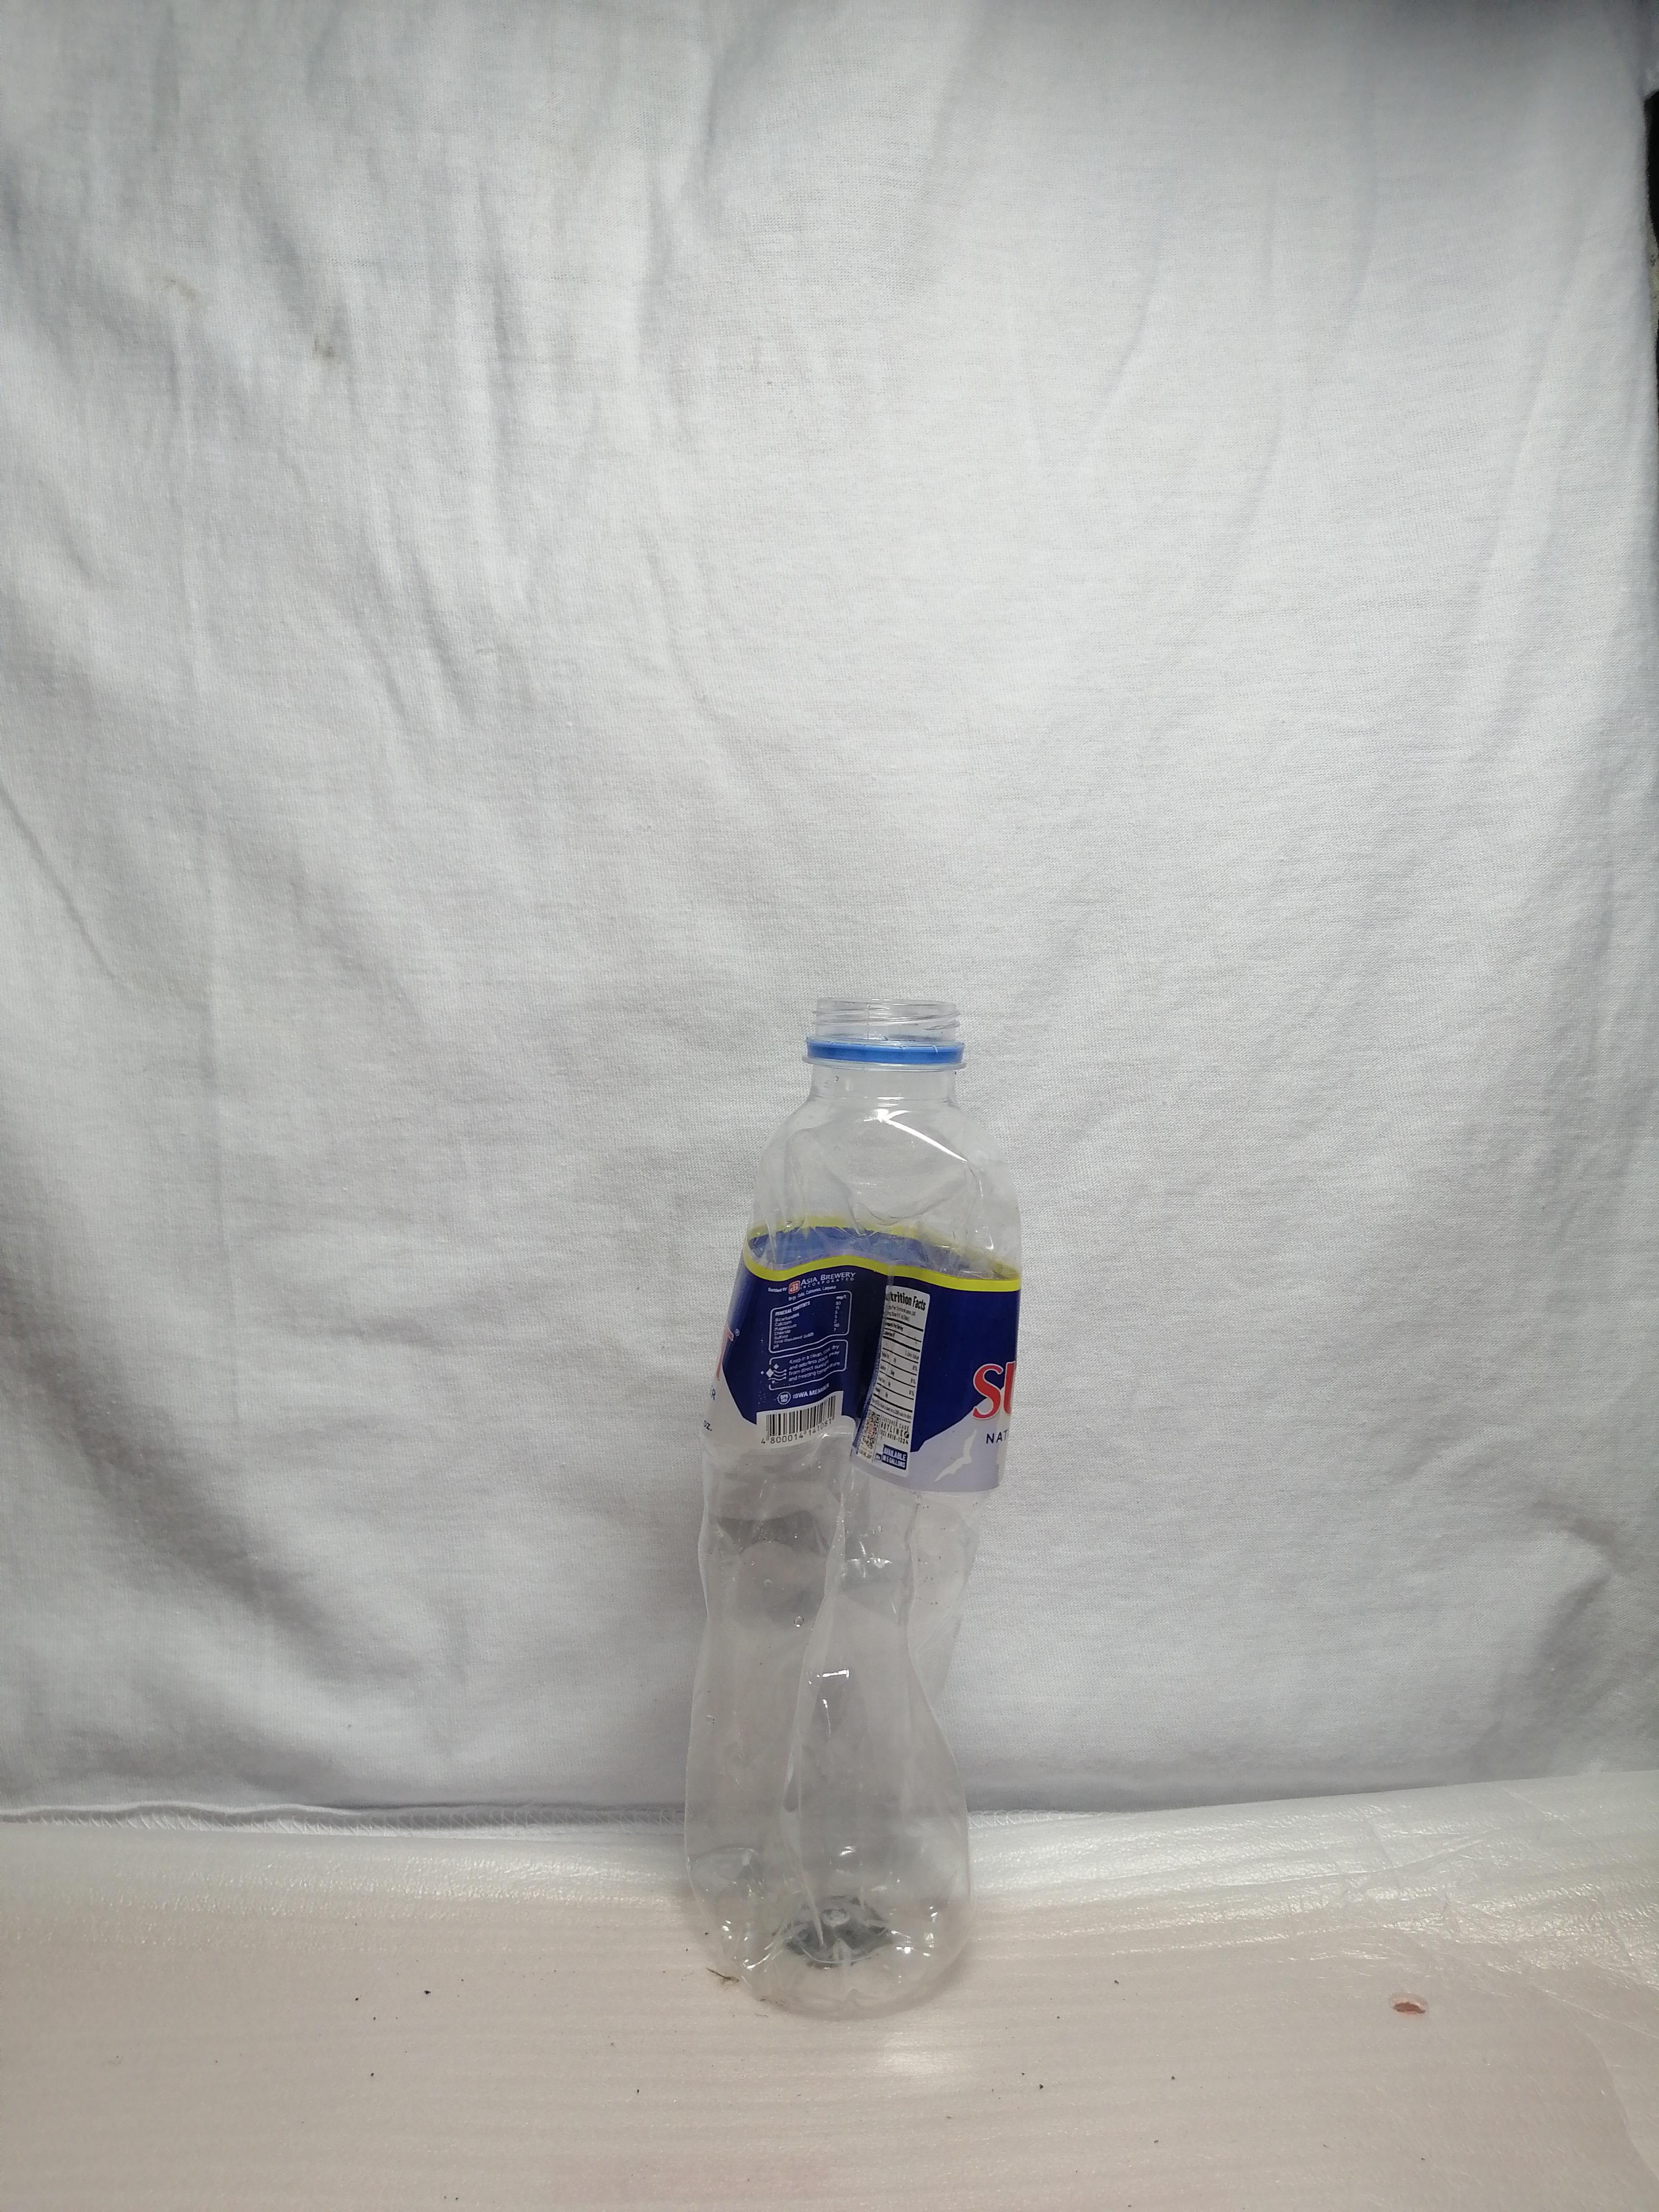plastic-bottle: (624, 979, 1080, 2093)
